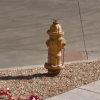Hydrant: (39, 15, 66, 80)
